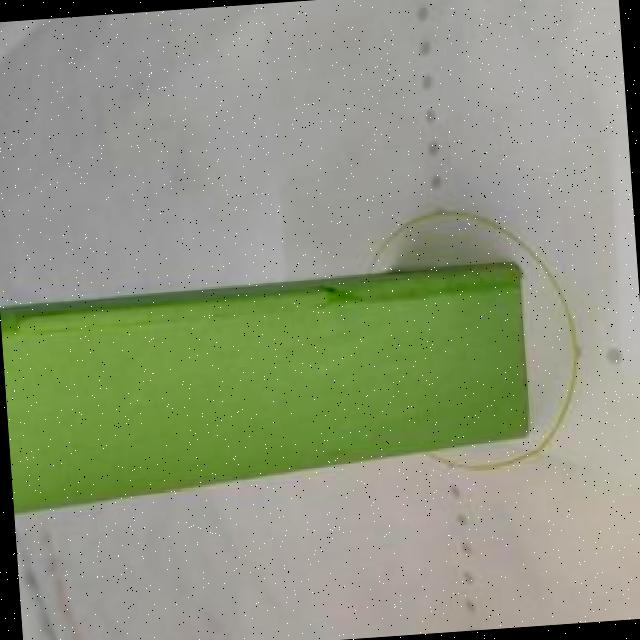greenbox: (0, 268, 541, 514)
